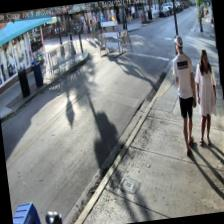person: (168, 33, 203, 156)
